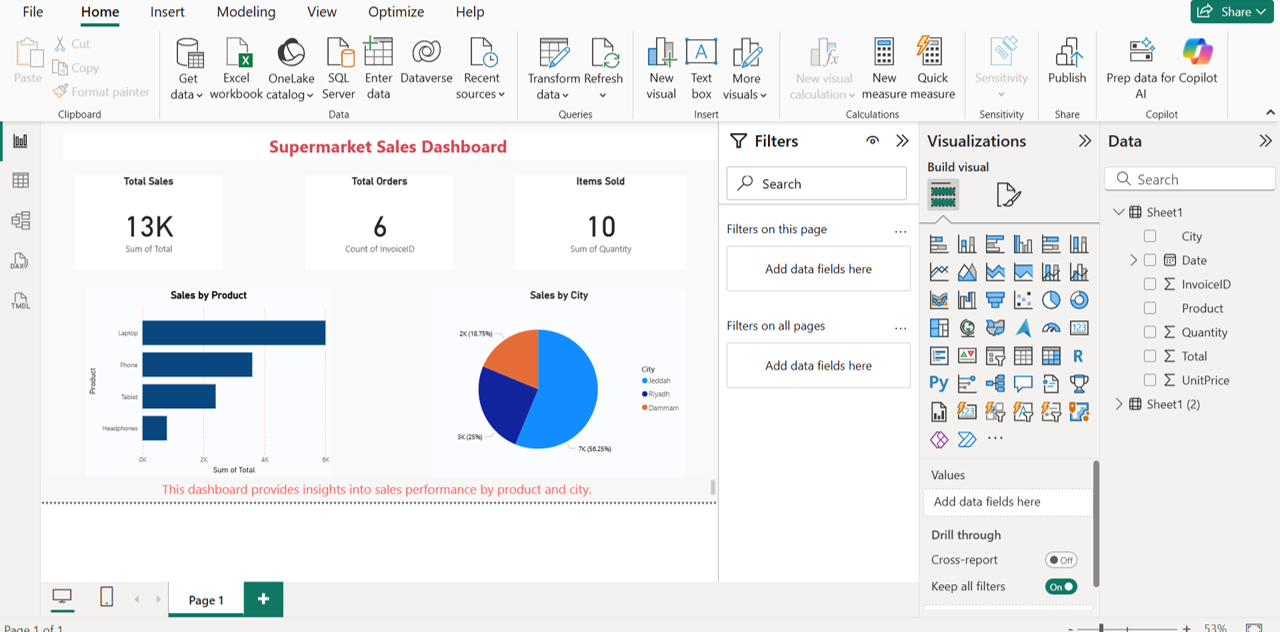

This screenshot's page, from the dashboard's own definition file:
{"tool":"powerbi","page":{"name":"Page 1","canvas":[1280,720],"ordinal":0},"visuals":[{"type":"card","title":"Total Sales","fields":{"Values":["Sum(Sheet1.Total)"]},"box":[64.3,102,279.7,177.6],"z":0},{"type":"card","title":"Total Orders ","fields":{"Values":["CountNonNull(Sheet1.InvoiceID)"]},"box":[500.8,102,279.7,177.6],"z":1000},{"type":"card","title":"Items Sold","fields":{"Values":["Sum(Sheet1.Quantity)"]},"box":[895.8,102,325,177.6],"z":2000},{"type":"barChart","title":"Sales by Product","fields":{"Category":["Sheet1.Product"],"Y":["Sum(Sheet1.Total)"]},"box":[85,317.5,464.9,353.4],"z":3000},{"type":"pieChart","title":"Sales by City","fields":{"Category":["Sheet1.City"],"Y":["Sum(Sheet1.Total)"]},"box":[738.9,317.5,481.9,355.3],"z":4000},{"type":"qnaVisual","box":[589.6,703,13.2,17],"z":5000},{"type":"textbox","box":[43.5,18.9,1235.9,54.8],"z":6000},{"type":"textbox","box":[0,672.8,1279.4,47.2],"z":7000}]}

Visuals, with their boxes on the page's 1280x720 design canvas (x1, y1, x2, y2). These are canvas units, not pixel positions in the 1280x632 screenshot, which may show the page scaled, cropped or inside an application window:
"Total Sales" card: pyautogui.locateOnScreen(64, 102, 344, 280)
"Total Orders " card: pyautogui.locateOnScreen(501, 102, 780, 280)
"Items Sold" card: pyautogui.locateOnScreen(896, 102, 1221, 280)
"Sales by Product" barChart: pyautogui.locateOnScreen(85, 318, 550, 671)
"Sales by City" pieChart: pyautogui.locateOnScreen(739, 318, 1221, 673)
qnaVisual: pyautogui.locateOnScreen(590, 703, 603, 720)
textbox: pyautogui.locateOnScreen(44, 19, 1279, 74)
textbox: pyautogui.locateOnScreen(0, 673, 1279, 720)
